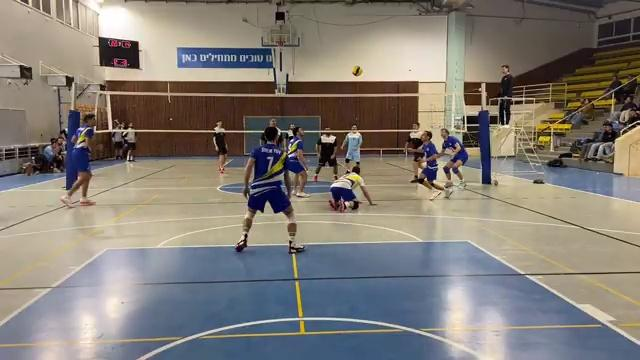ball: (351, 62, 366, 84)
